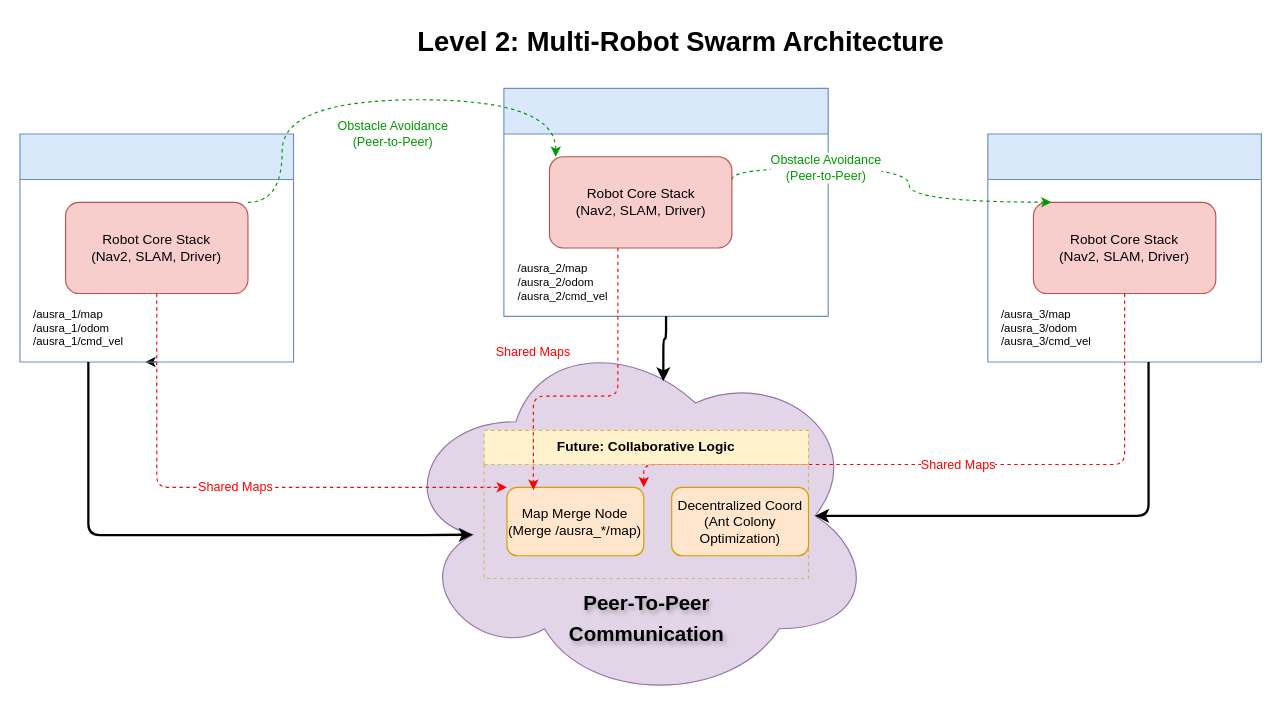
The diagram is 1281 pixels wide and 724 high, and some of its shapes have lost their labels. Here are the shapes that lost their labels. From the top down, the box of each, then its label:
(503, 87, 828, 316): ausra_2 (Namespace)
(19, 133, 294, 362): ausra_1 (Namespace)
(987, 133, 1261, 362): ausra_3 (Namespace)
